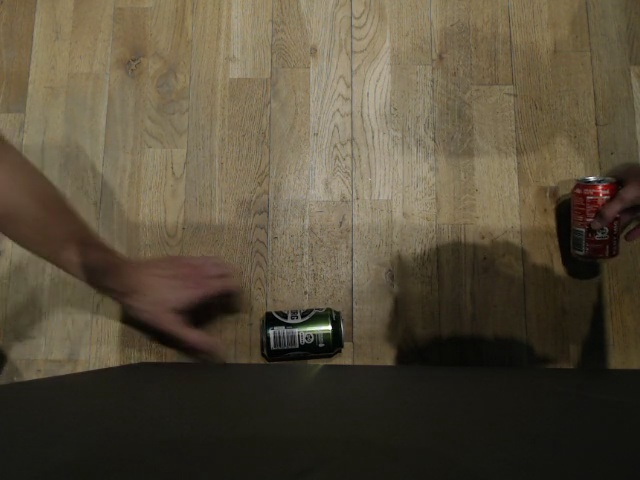beer: (259, 306, 344, 360)
cola: (570, 176, 621, 259)
